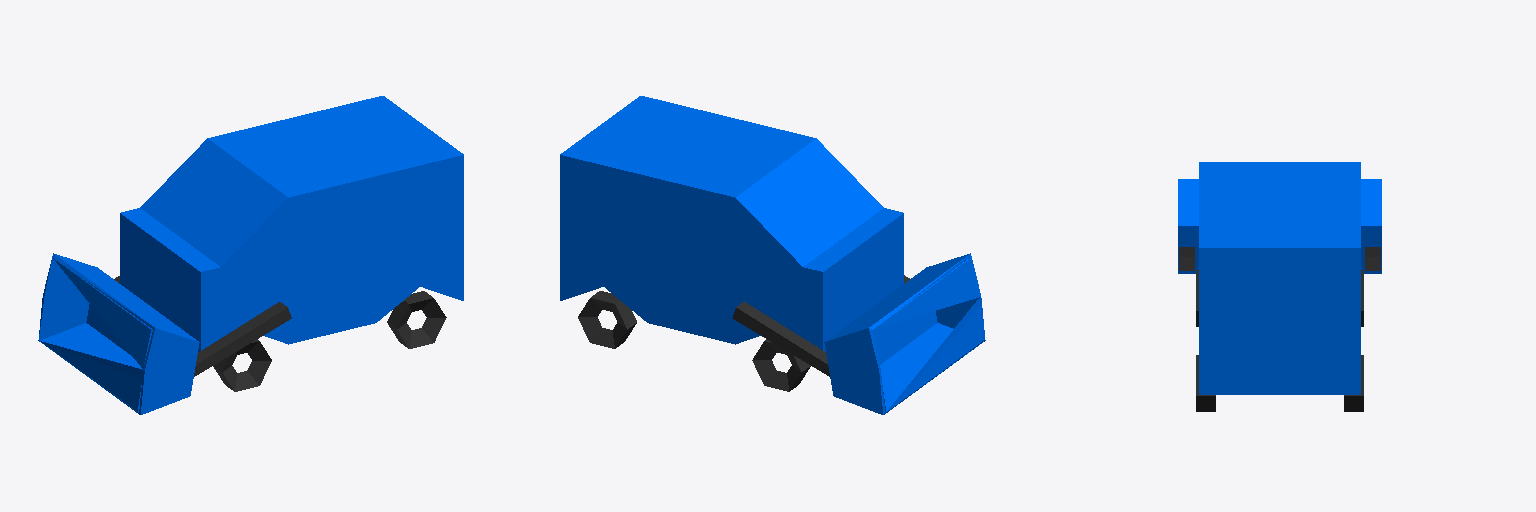
Rendered from pub.obj.
3 renders of one model, left to right at view 1: azimuth 30°, elevation 25°; view 2: azimuth 150°, elevation 25°; view 3: azimuth 270°, elevation 25°, orthographic.
Parts seen in each view (by area): view 1: pCube1, polySurface1, pCube6, pTorus1, pTorus3; view 2: pCube1, polySurface1, pCube7, pTorus2, pTorus4; view 3: pCube1, polySurface1.
Boxes of the visible parts, <box> form: pCube1: <box>120,96,463,351</box>; polySurface1: <box>38,253,199,414</box>; pCube6: <box>194,302,291,376</box>; pTorus1: <box>387,291,446,348</box>; pTorus3: <box>213,339,271,391</box>; pCube1: <box>560,96,903,351</box>; polySurface1: <box>824,253,985,414</box>; pCube7: <box>732,301,829,376</box>; pTorus2: <box>578,291,636,348</box>; pTorus4: <box>752,339,810,391</box>; pCube1: <box>1199,162,1360,394</box>; polySurface1: <box>1178,179,1381,273</box>.
Size of the model in its own units: 9.33 by 4.78 by 4.92.